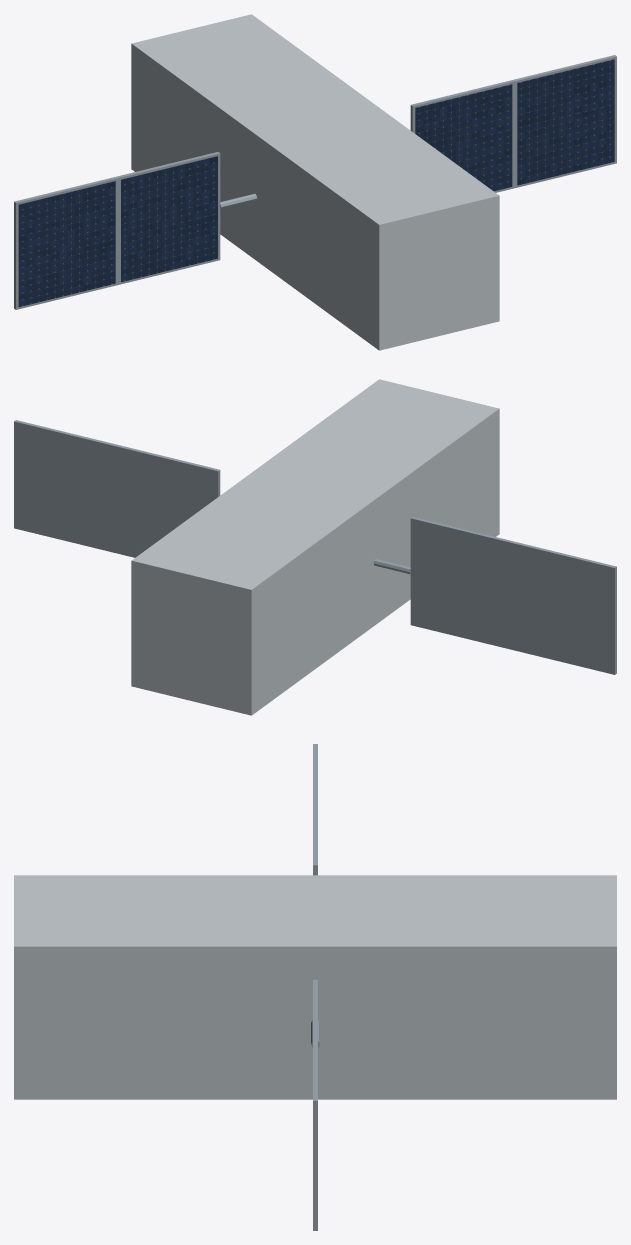
File: ref-mac-200-39265.glb
The picture shows the model from 3 angles, top to bottom: view 1: azimuth 30°, elevation 25°; view 2: azimuth 150°, elevation 25°; view 3: azimuth 270°, elevation 25°; orthographic projection. The views are drawn at different scales.
Visible parts, largest first — view 1: Spacecraft body, Photovoltaic laminates (×4), Array frame (×4); view 2: Spacecraft body, Array frame (×4); view 3: Spacecraft body, Array frame.
Part boxes in pixels (box(x1,y1,x2,y2)): Spacecraft body: box(131, 14, 499, 350); Photovoltaic laminates (×4): box(18, 59, 614, 306); Array frame (×4): box(14, 55, 616, 309); Spacecraft body: box(131, 379, 499, 715); Array frame (×4): box(14, 420, 616, 674); Spacecraft body: box(14, 875, 616, 1099); Array frame: box(313, 1040, 317, 1230).
Size of the model in its own units: 7 by 1.4 by 5.
3 materials, 1 textured.
